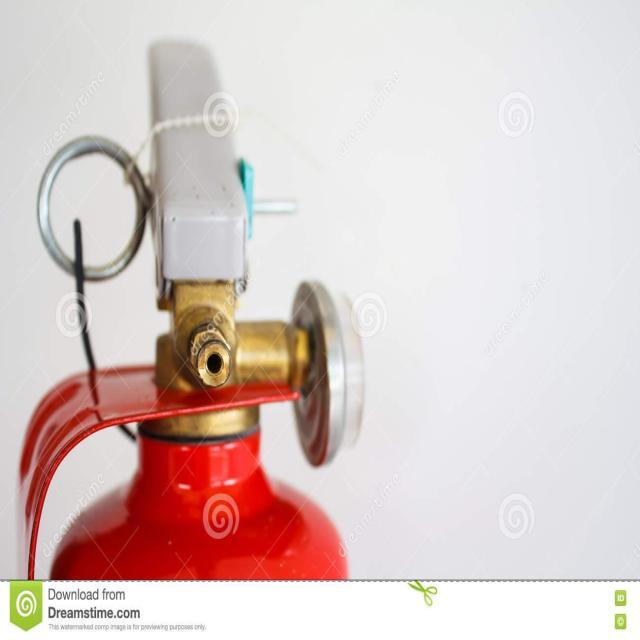fire_extinguisher: (0, 27, 382, 580)
